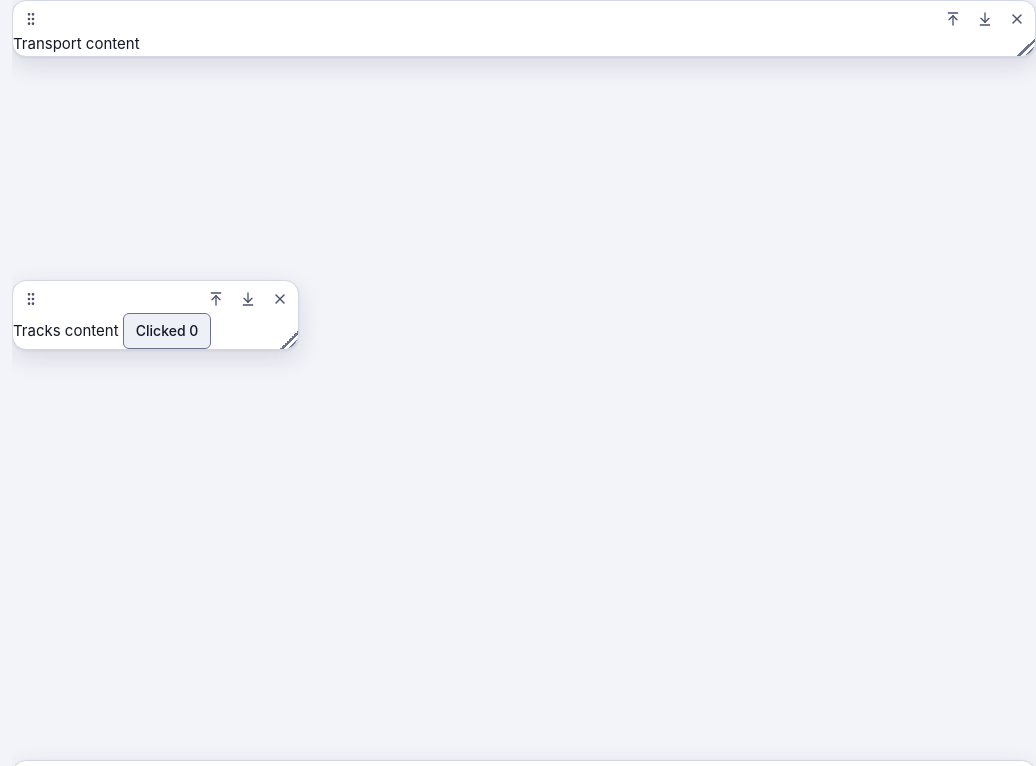
Test: the cross hides a Widget
This screenshot has width=1036, height=766.
Click the button named "Hide Tracks" at (280,299), box [266,285,294,313]
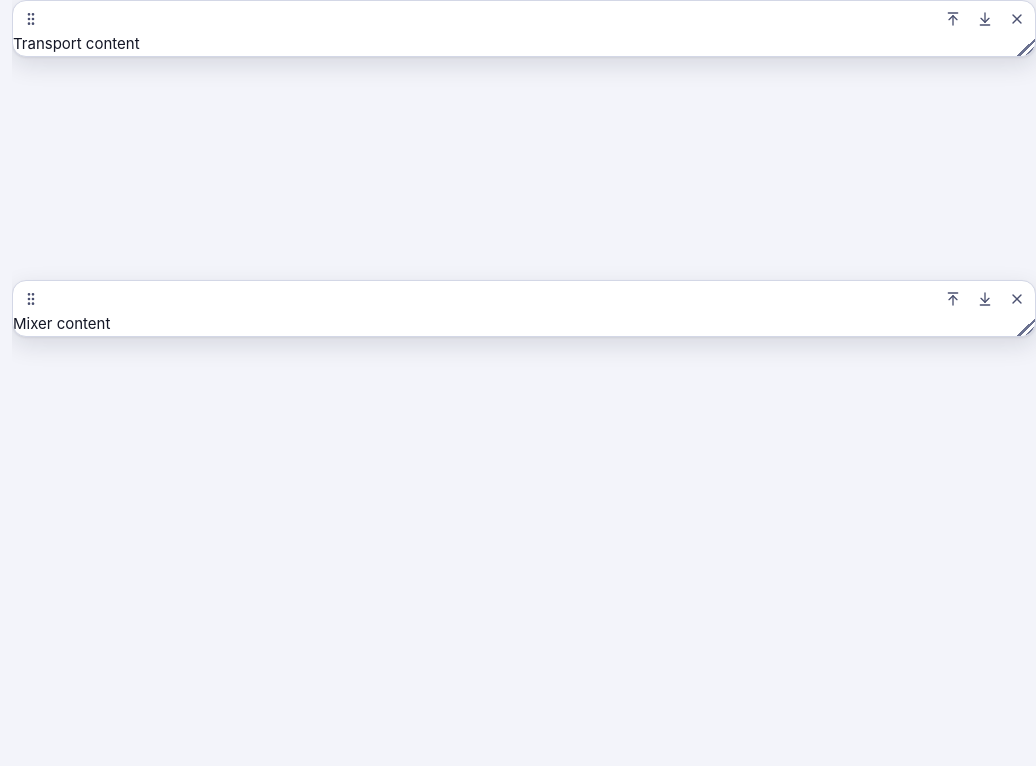
Expected: the text "Tracks content" is gone
